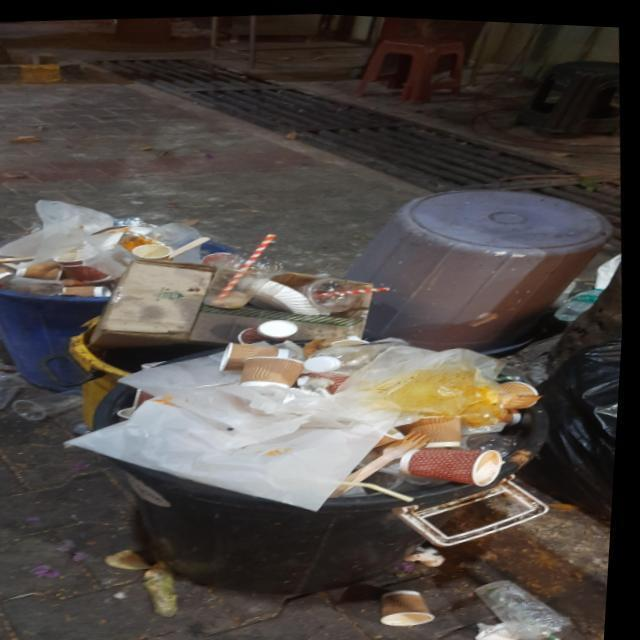Disposable: (206, 251, 287, 305), (303, 274, 377, 309), (370, 459, 454, 489), (467, 427, 521, 452), (349, 483, 381, 493)
Garbage: (0, 199, 545, 506)
Metal: (110, 230, 167, 264)
Plastic_Bag: (341, 340, 515, 429), (0, 199, 115, 266), (83, 231, 137, 277), (150, 220, 205, 247), (175, 246, 205, 261)
Plastic_Straw: (214, 231, 278, 303), (346, 477, 420, 498), (325, 283, 393, 292), (501, 369, 525, 378)
Plastic_bottle: (308, 334, 413, 370)
